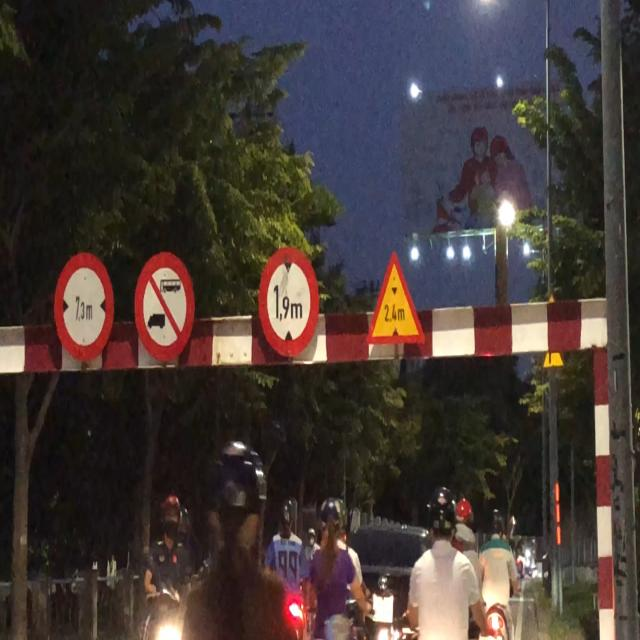Bien bao cam xe oto khach va xe oto tai: (128, 243, 197, 365)
Bien bao chieu cao tinh khong thuc te: (365, 243, 428, 348)
Bien bao han che chieu cao: (256, 233, 326, 368)
